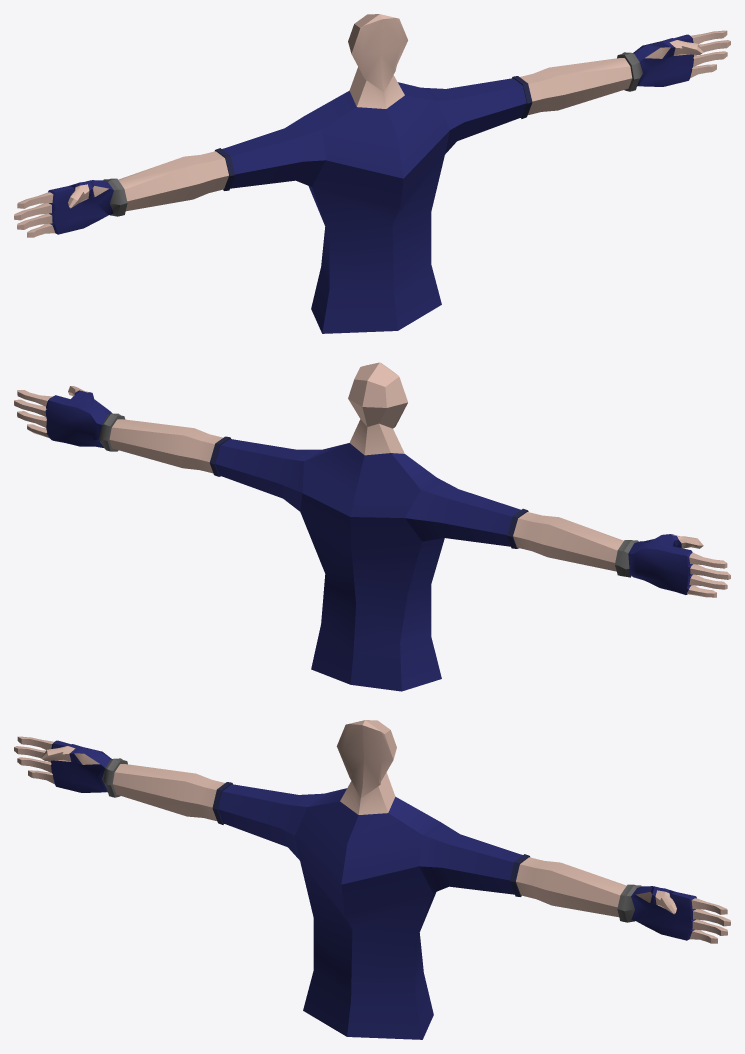
File: Playert.fbx
3 views of the same model, one above another, from view 1: azimuth 30°, elevation 25°; view 2: azimuth 150°, elevation 25°; view 3: azimuth 330°, elevation 25° (orthographic).
Visible parts, largest first — view 1: Body; view 2: Body; view 3: Body.
Boxes of the visible parts, box(x1,y1,x2,y2) form: Body: box(14, 14, 730, 333); Body: box(14, 362, 730, 691); Body: box(14, 720, 730, 1039).
Size of the model in its own units: 2.46 by 0.995 by 0.3171.
